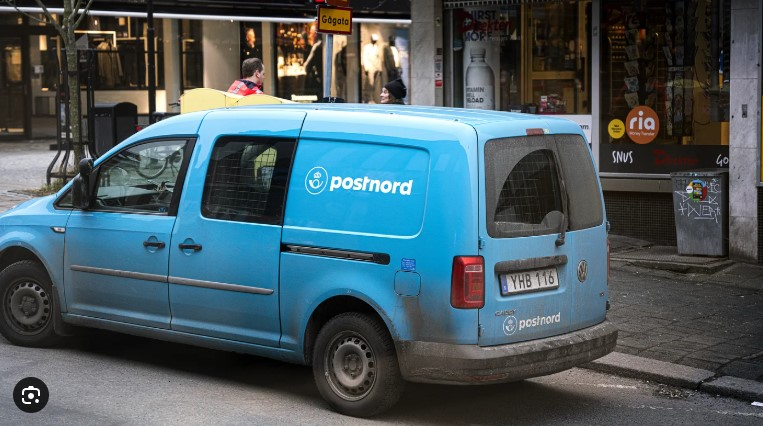postnord: (1, 100, 621, 421)
